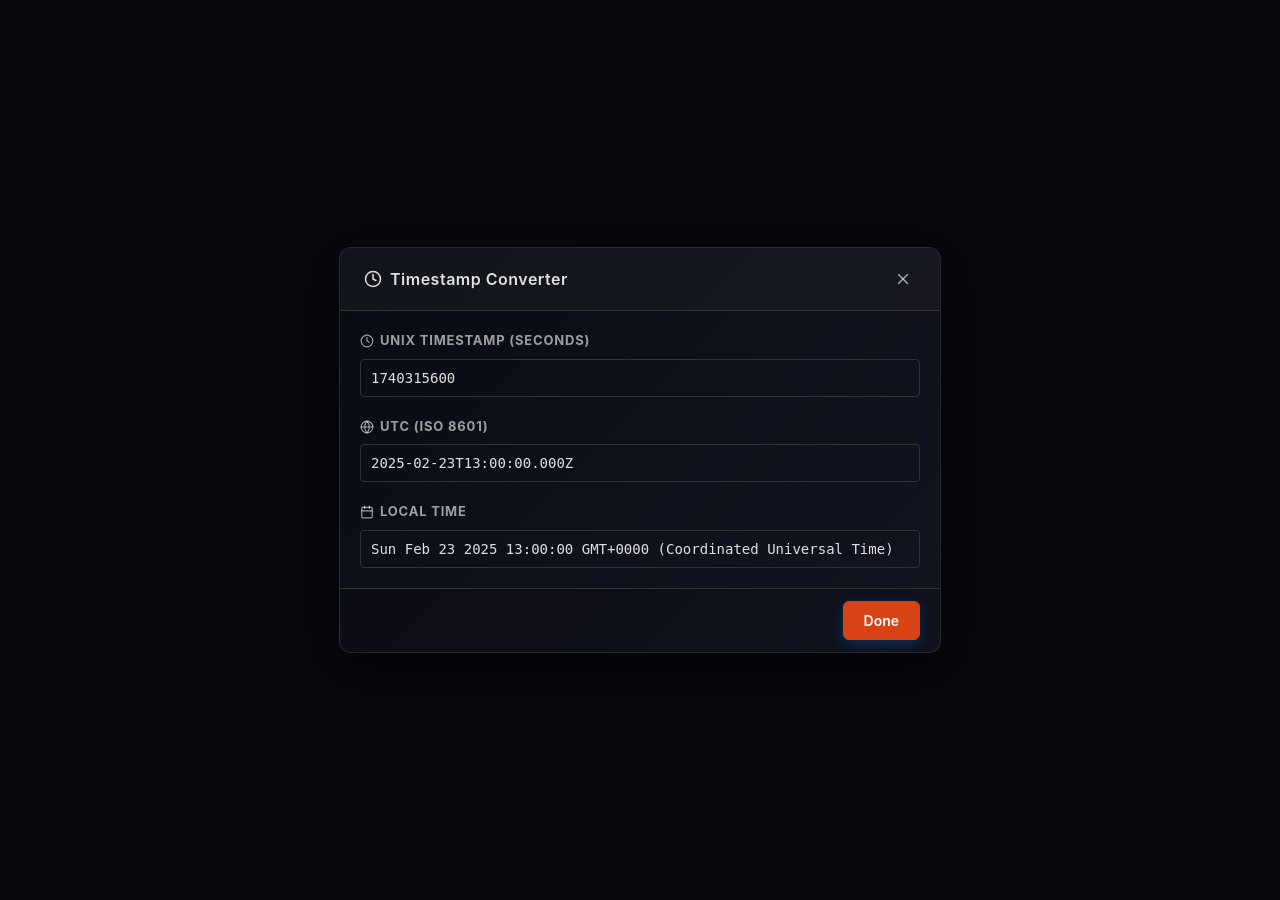
TimestampConverterDialog › updates UTC and Local when Unix changes
Step 1. Replace the text in the field labelled "Unix Timestamp (seconds)" with "1700000000" → point(640, 378), box left=360, top=359, right=920, bottom=397
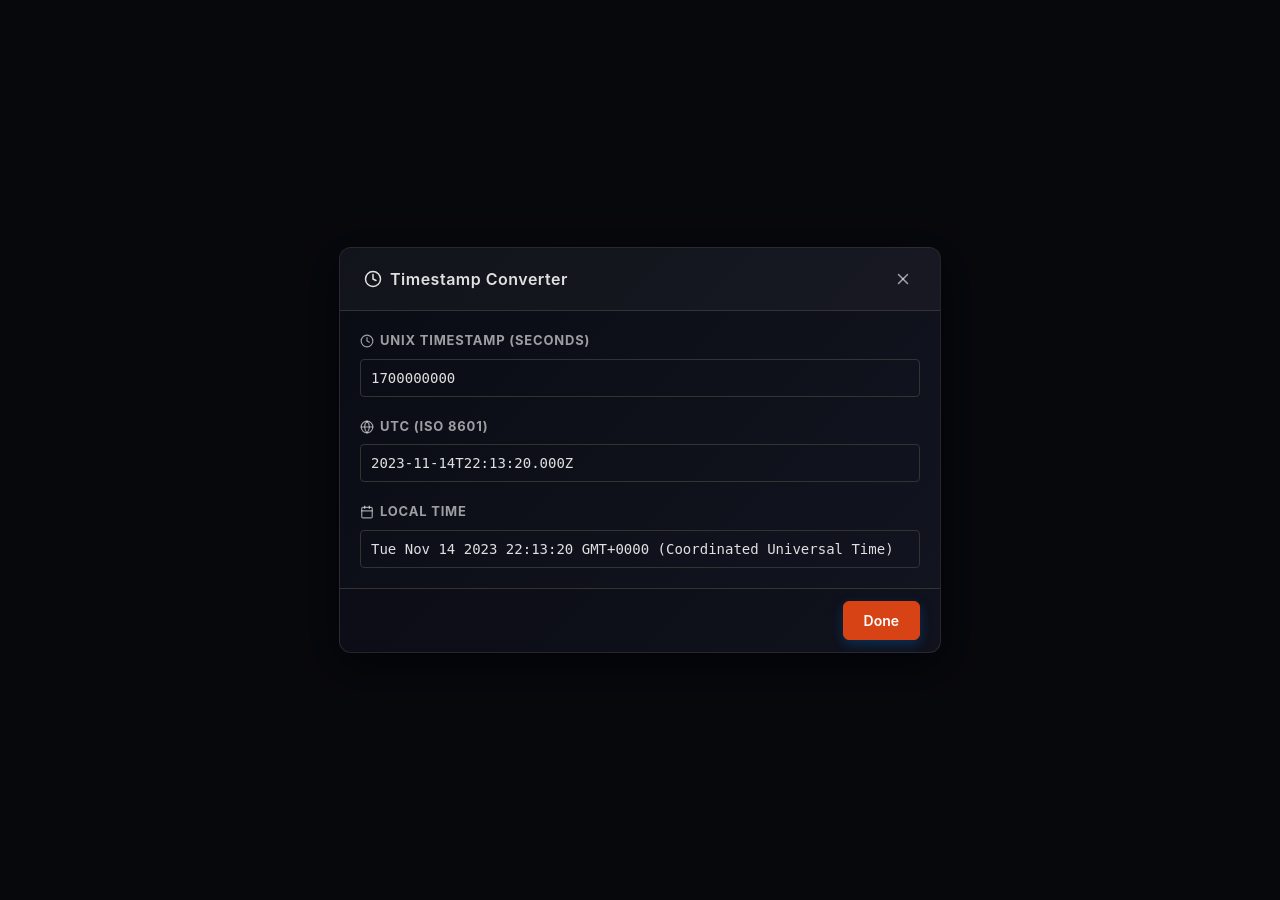
Result: the field labelled "UTC (ISO 8601)" holds "2023-11-14T22:13:20.000Z" at left=360, top=444, right=920, bottom=482
